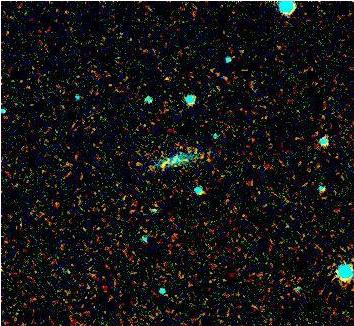star: (148, 151, 178, 181)
